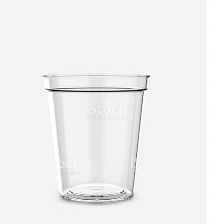glass: (31, 65, 164, 208)
